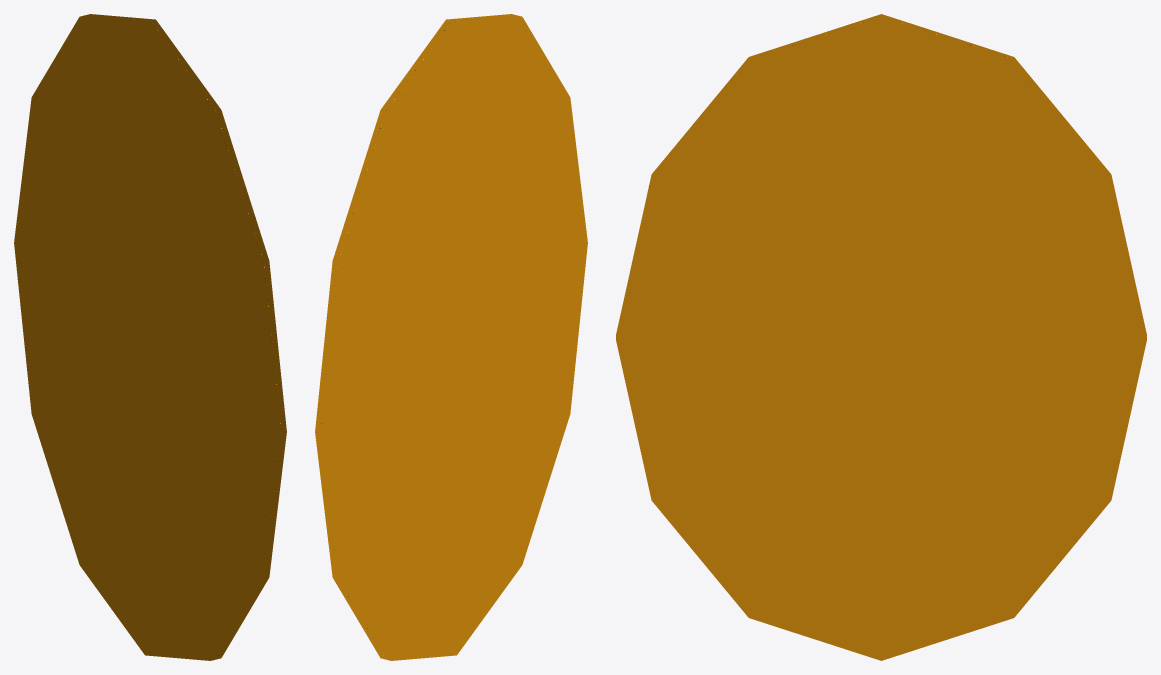
File: Bar1.gltf
3 views of the same model, side by side, from view 1: azimuth 30°, elevation 25°; view 2: azimuth 150°, elevation 25°; view 3: azimuth 270°, elevation 25° (orthographic).
Parts seen in each view (by area): view 1: Cylinder.001; view 2: Cylinder.001; view 3: Cylinder.001.
Part boxes in pixels (box(x1,y1,x2,y2)): Cylinder.001: box(14, 14, 286, 660); Cylinder.001: box(315, 14, 587, 660); Cylinder.001: box(616, 14, 1146, 660).
Size of the model in its own units: 7.83e-05 by 0.00435 by 0.00326.
